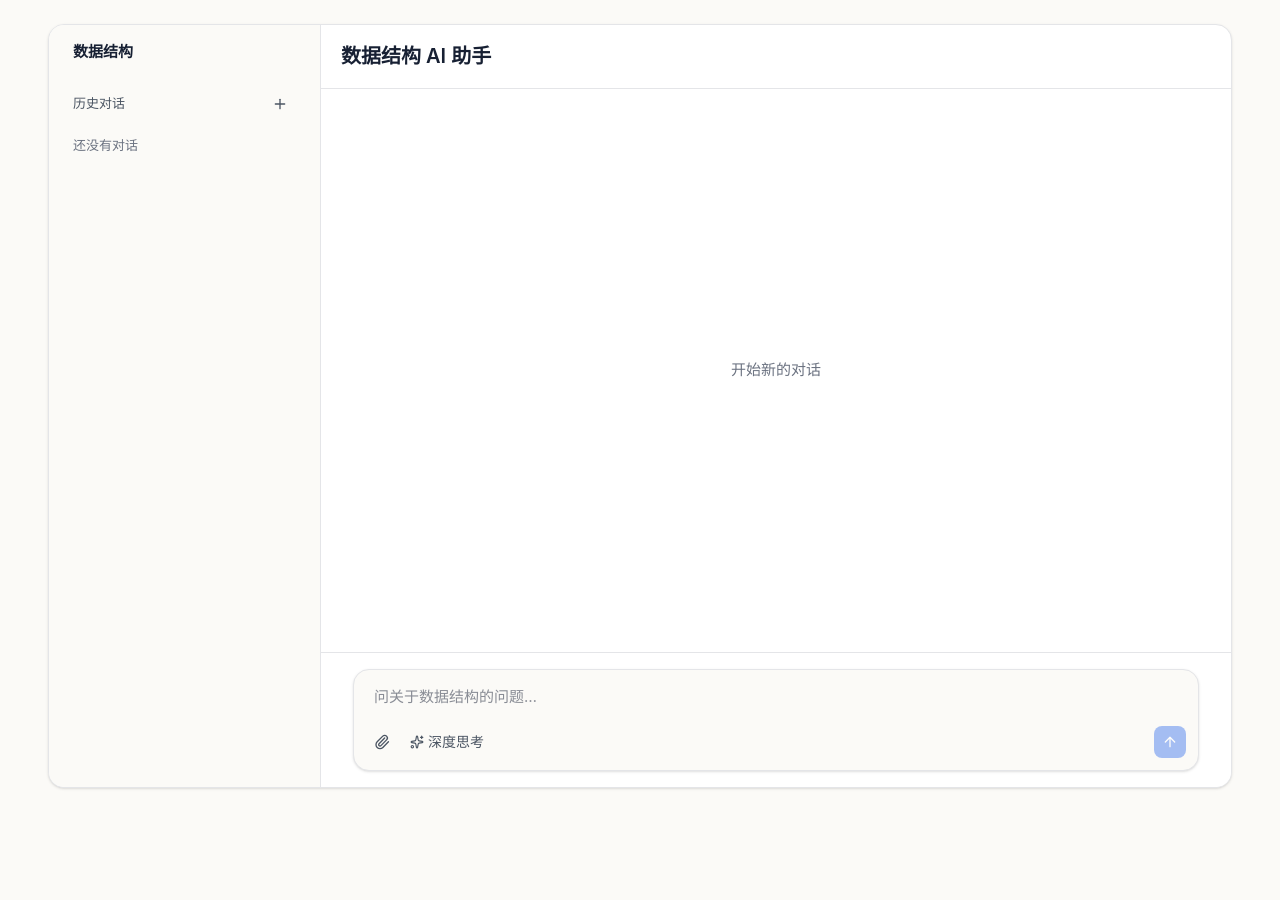
Test: streaming answers › appends deltas to the growing answer in order
This screenshot has width=1280, height=900.
Type "解释链表" into the text box named "你的问题" at (776, 702), box [362, 678, 1190, 726]
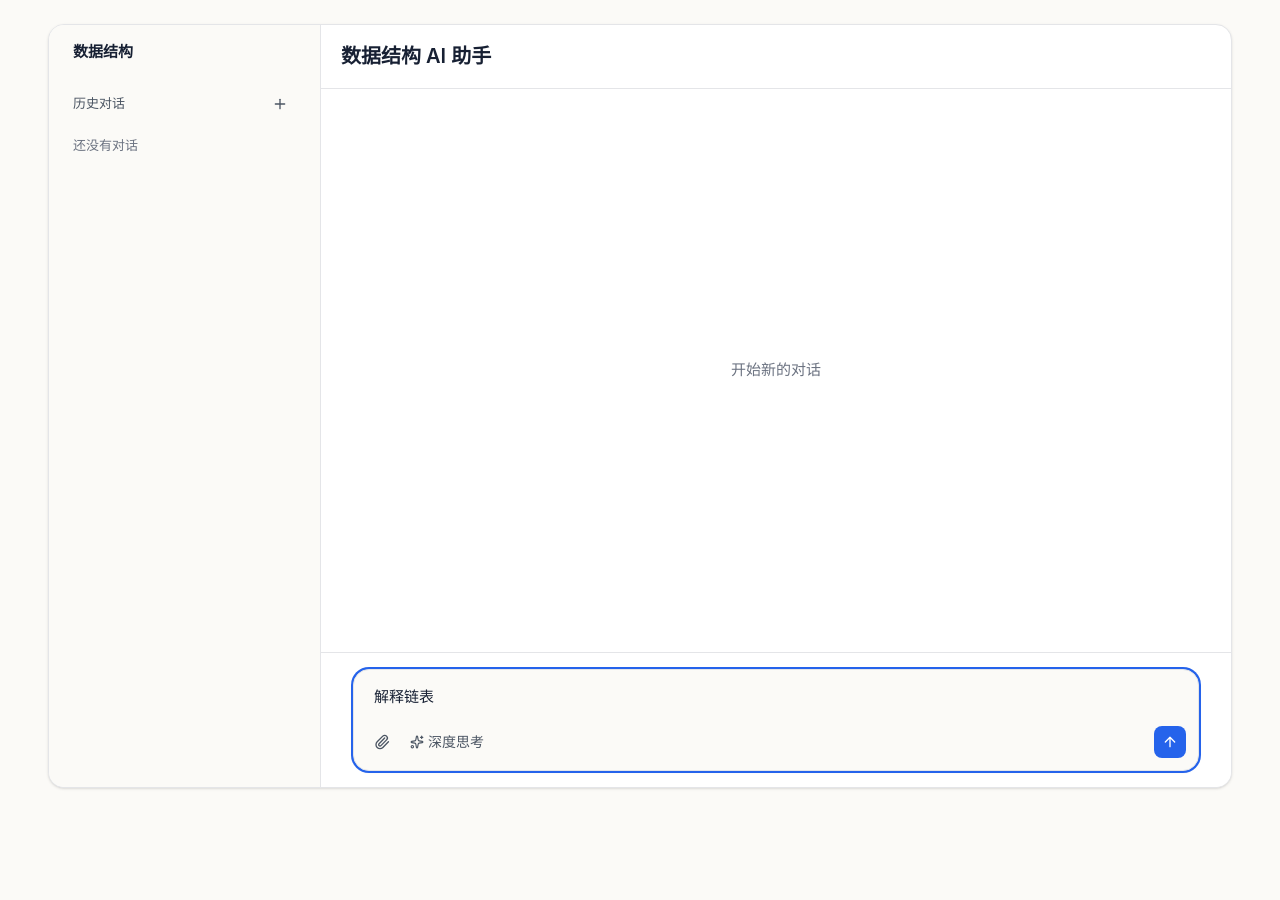
Click the button named "发送" at (1170, 742), box [1154, 726, 1186, 758]
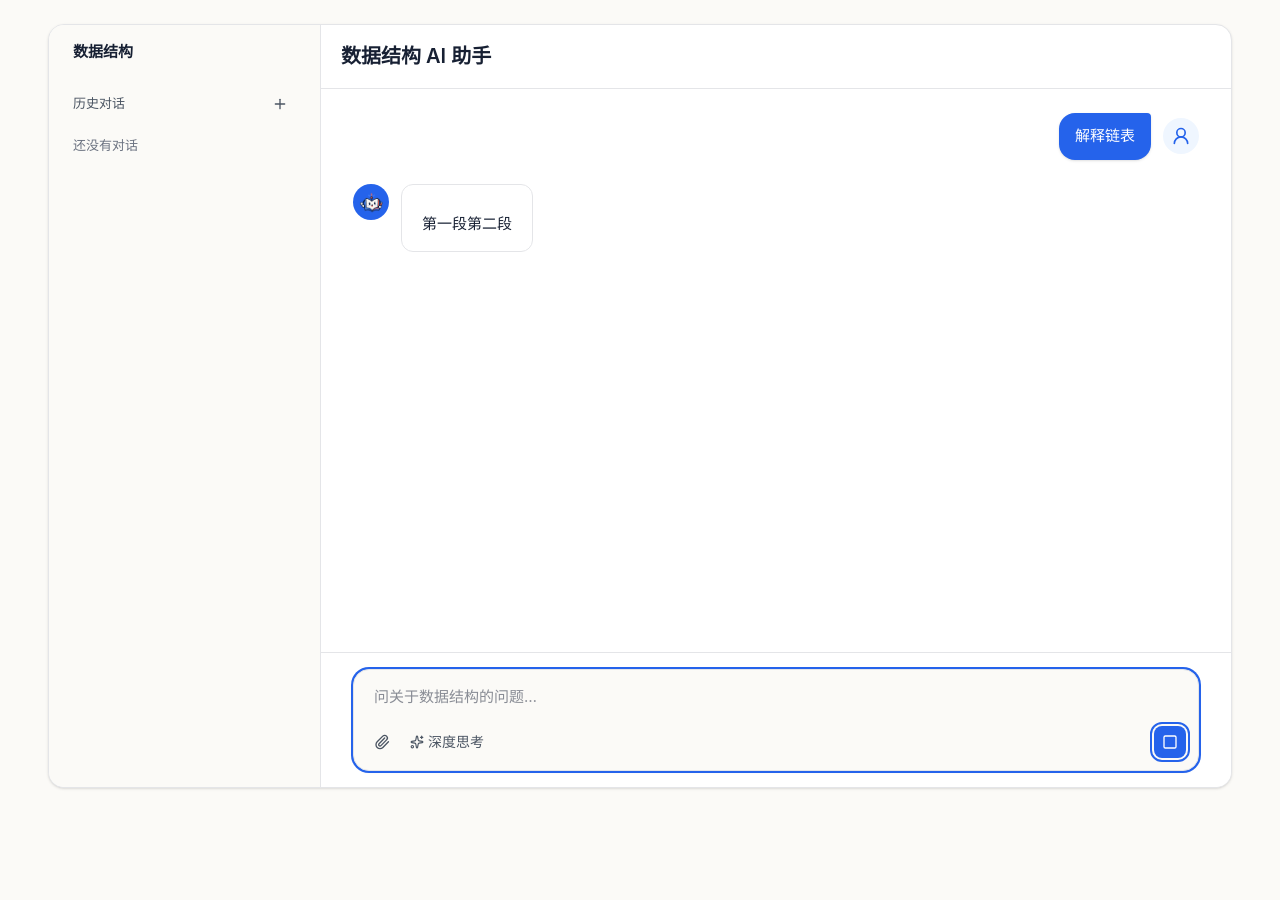
Check: the list shows "第一段", box [353, 113, 1199, 276]
Check: the list shows "第一段第二段", box [422, 214, 512, 232]
